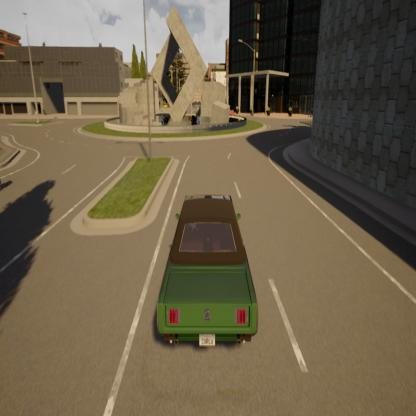Cars: (154, 185, 266, 369)
